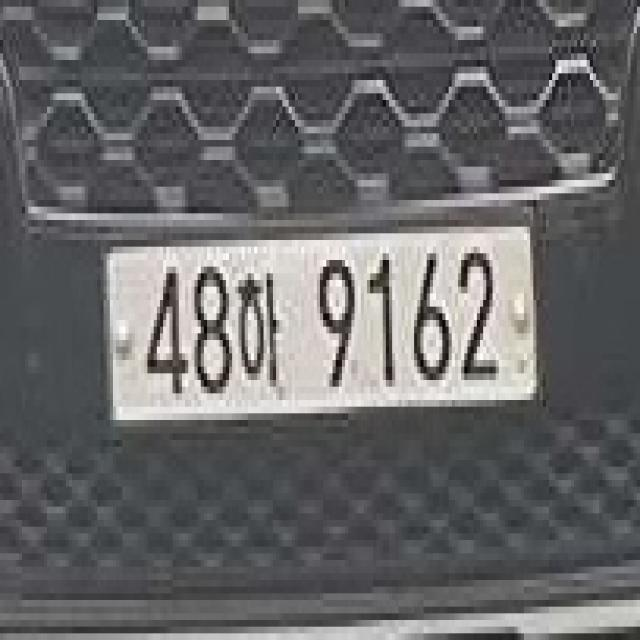1: (361, 247, 398, 403)
2: (457, 240, 500, 393)
4: (141, 256, 191, 403)
6: (407, 241, 453, 390)
8: (194, 254, 234, 402)
9: (310, 252, 358, 402)
ha: (237, 256, 284, 396)
license_plate: (100, 216, 547, 424)
